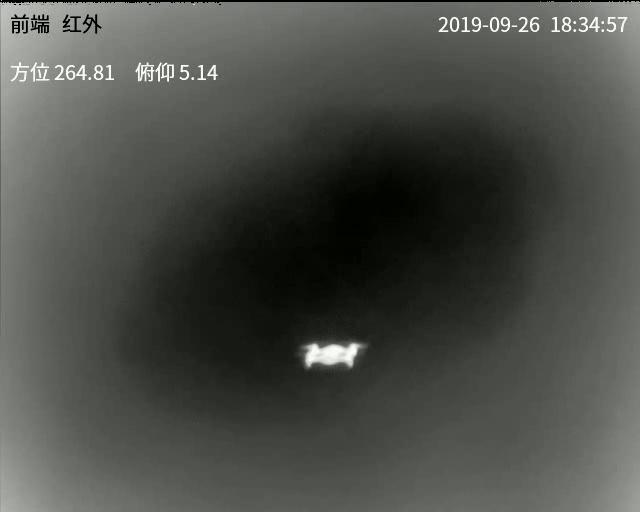DRONE: (301, 340, 363, 371)
